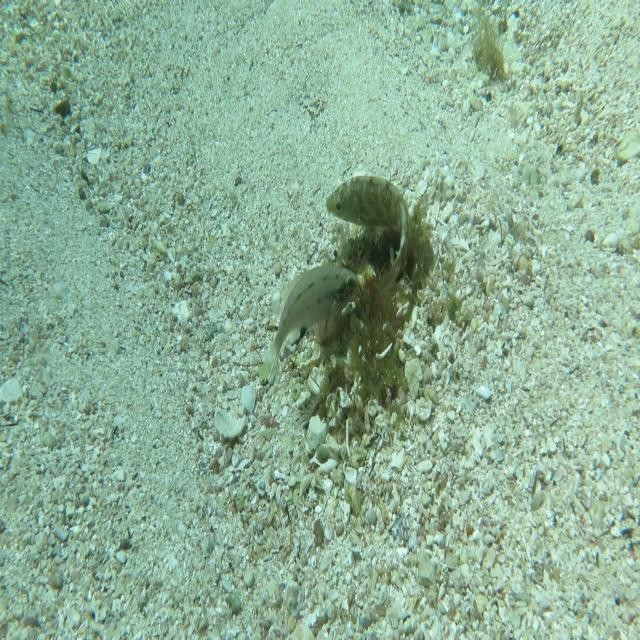SPA: (325, 172, 413, 294)
female: (259, 259, 362, 386)
nest: (300, 184, 448, 446)
